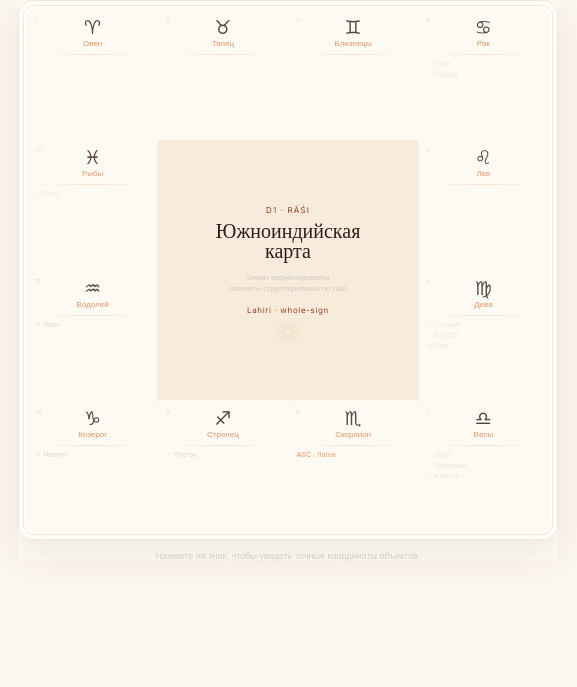
Test: NatalChartGraphic › раскрывает точные данные выбранной ячейки без наложения на список объектов
Click the button with aria-label "Знак Рак": {"x": 483, "y": 75} [419,10,548,139]
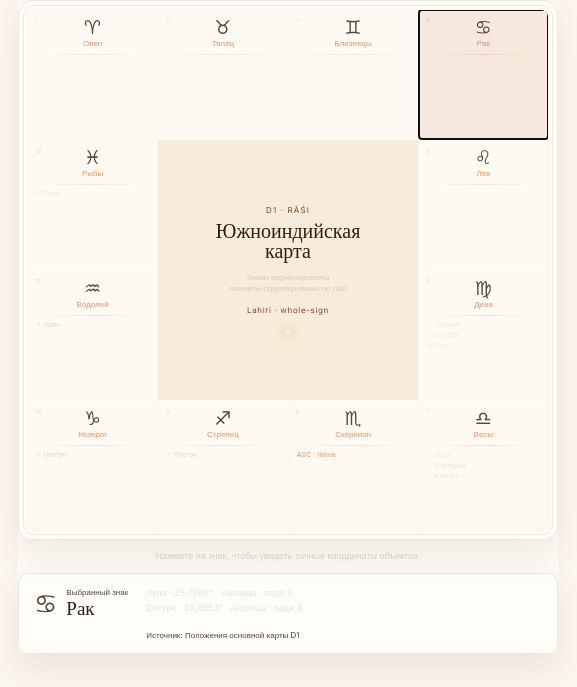
Expected: the text "Луна · 25,7398° · Ашлеша · пада 3" is shown, [146,587,292,598]
Now the text "Источник: Положения основной карты D1" is shown, box [146,630,300,640]
